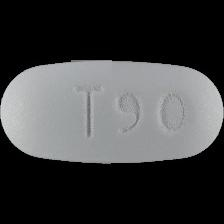0093-7490: (0, 0, 224, 224)
